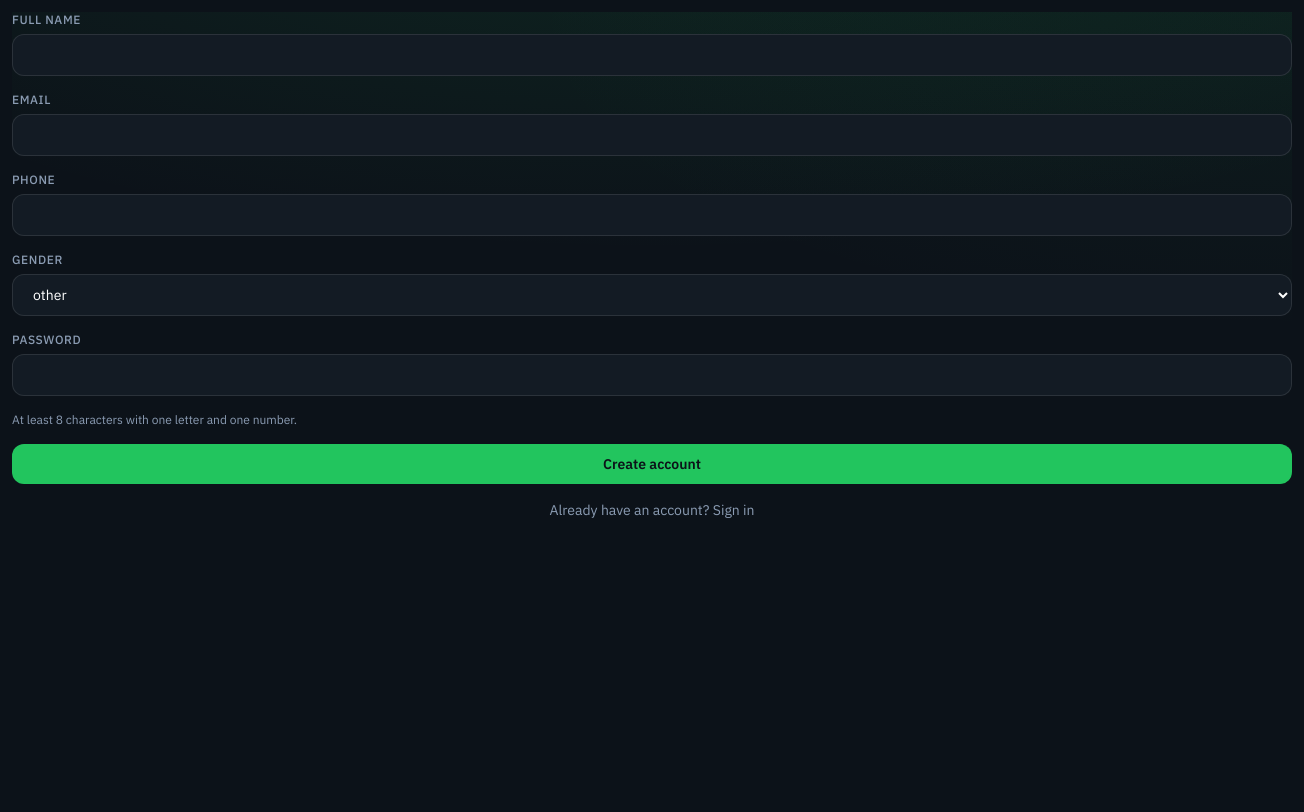
Test case: RegisterForm › shows API error message
This screenshot has width=1304, height=812.
Type "Alex" into the field labelled "Full name" at (652, 55), box [12, 34, 1292, 76]
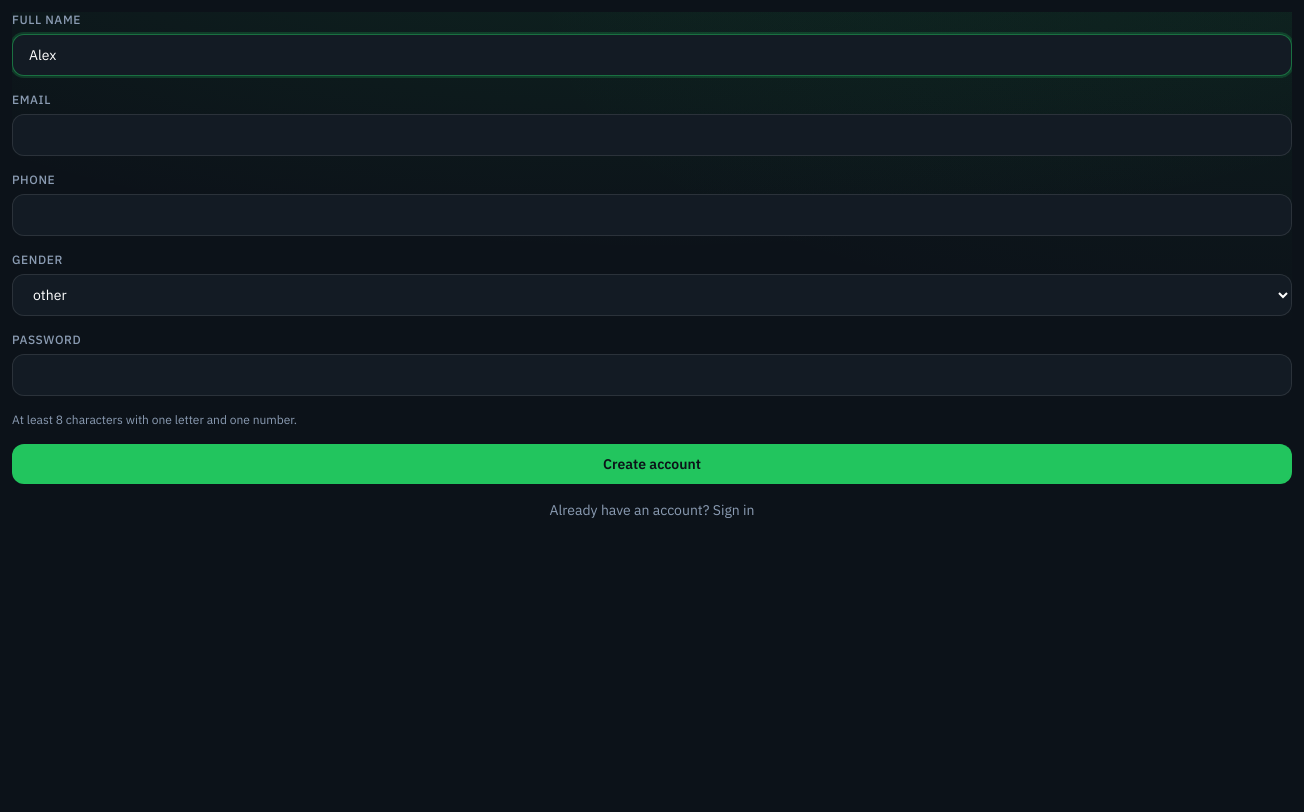
Type "dup@test.com" into the field labelled "Email" at (652, 135), box [12, 114, 1292, 156]
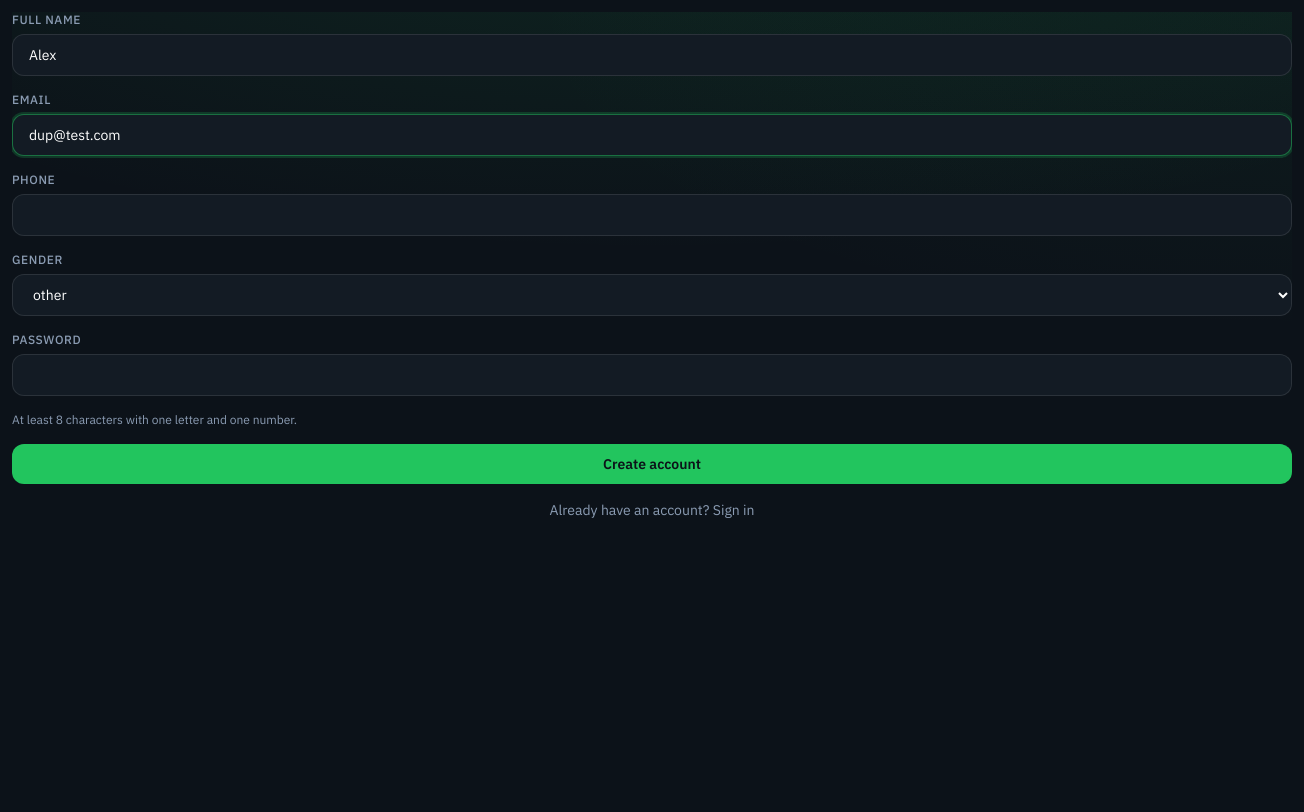
Type "+1" into the field labelled "Phone" at (652, 215), box [12, 194, 1292, 236]
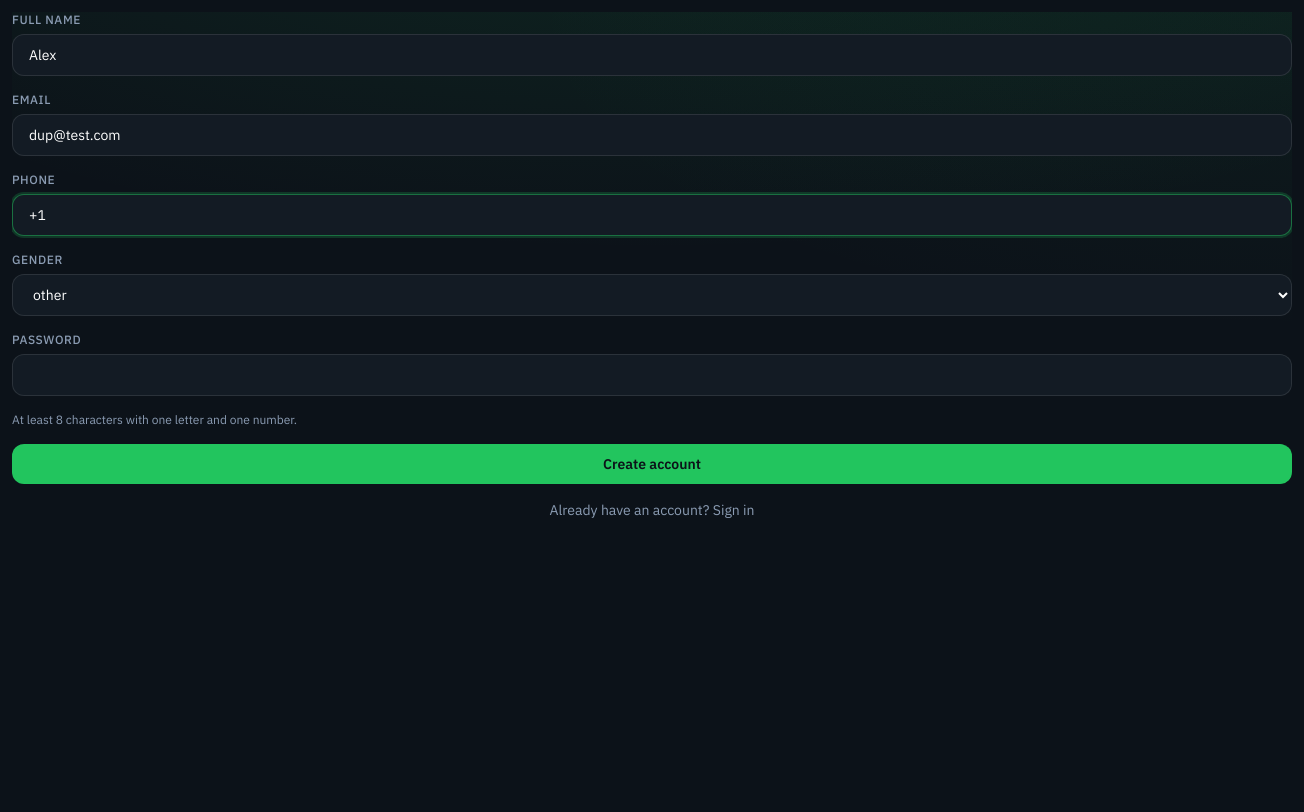
Type "secret123" into the password field labelled "Password" at (652, 375), box [12, 354, 1292, 396]
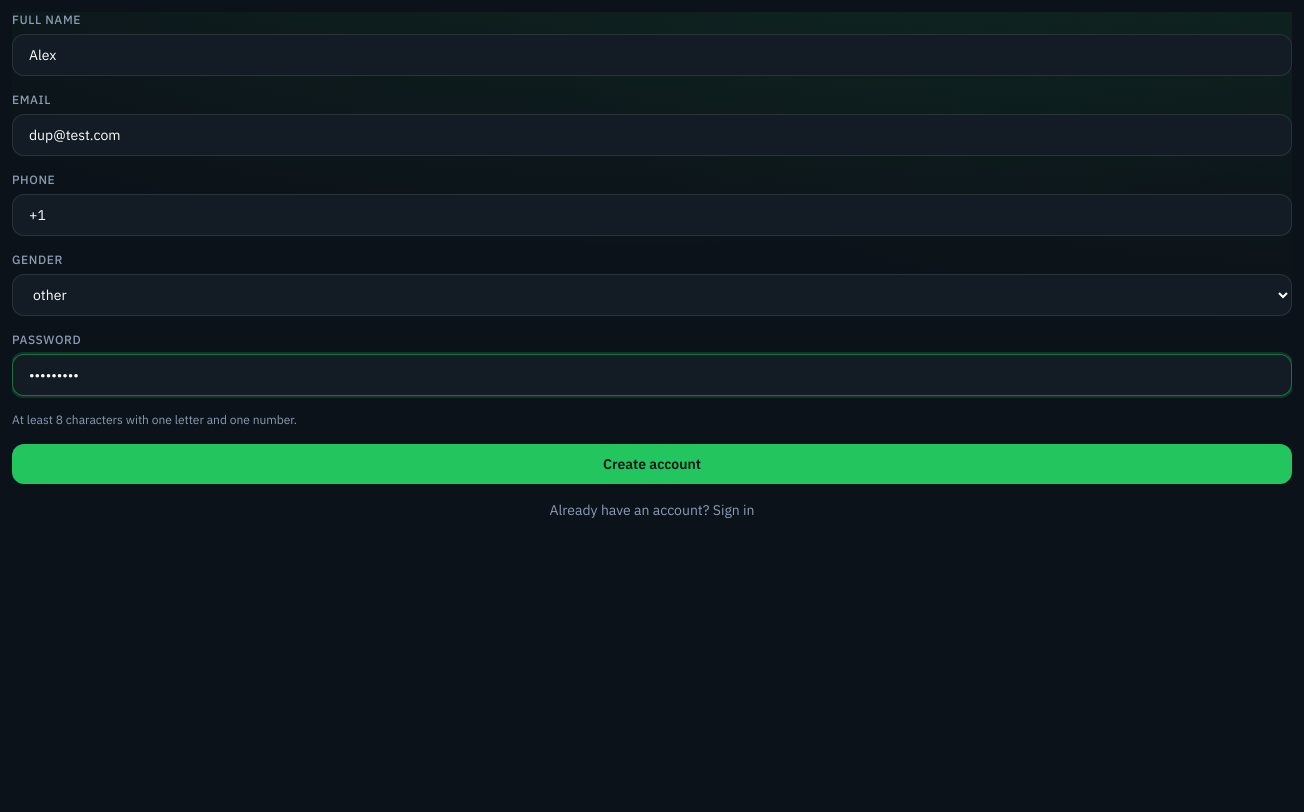
Click the button "Create account" at (652, 464), box [12, 444, 1292, 484]
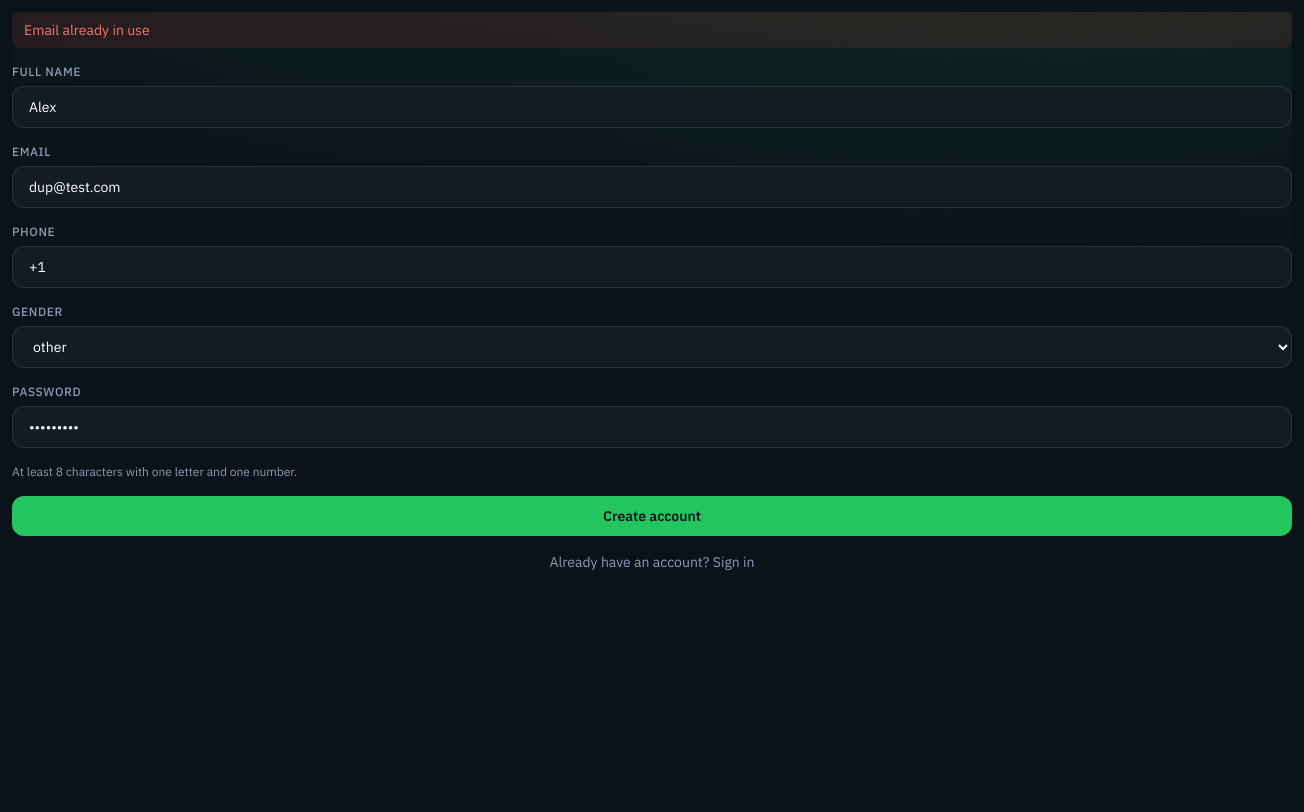
Now the text "Email already in use" is shown, box [12, 12, 1292, 48]
